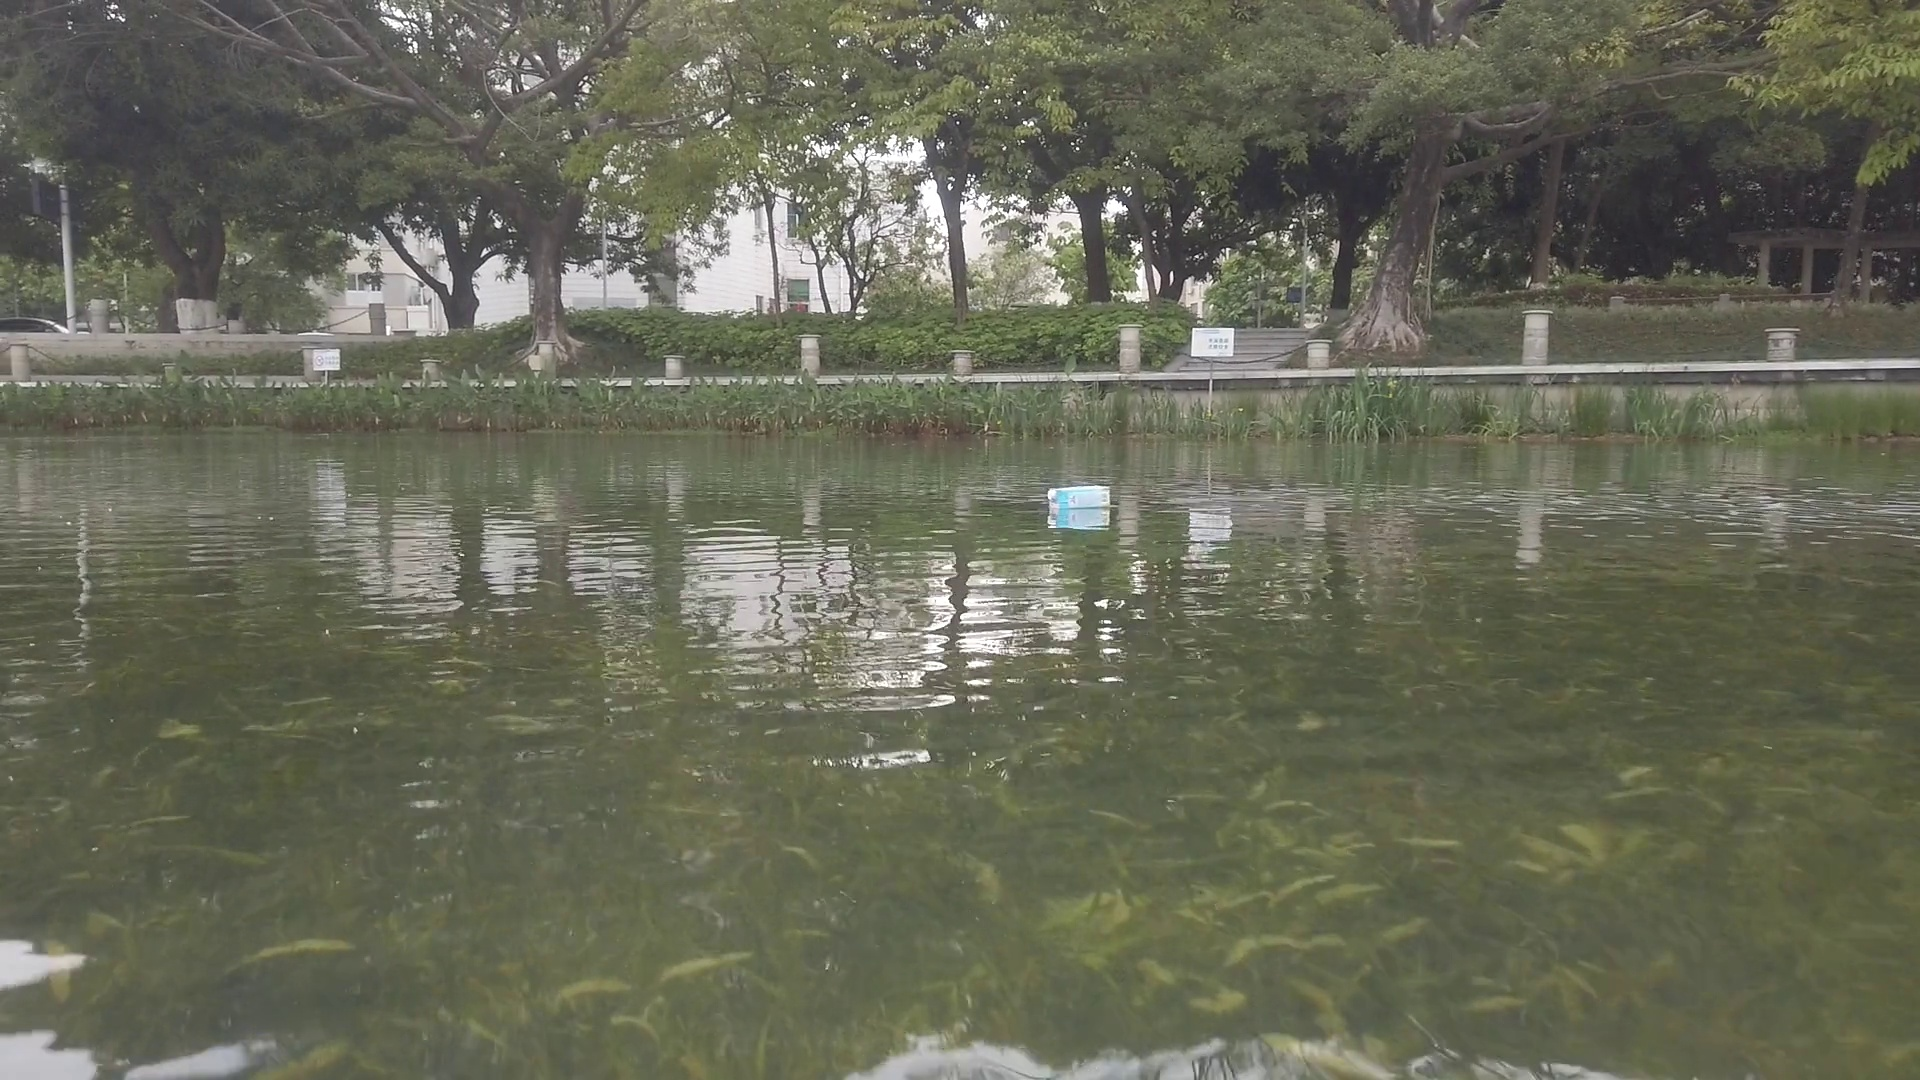carton: (1047, 484, 1110, 509)
